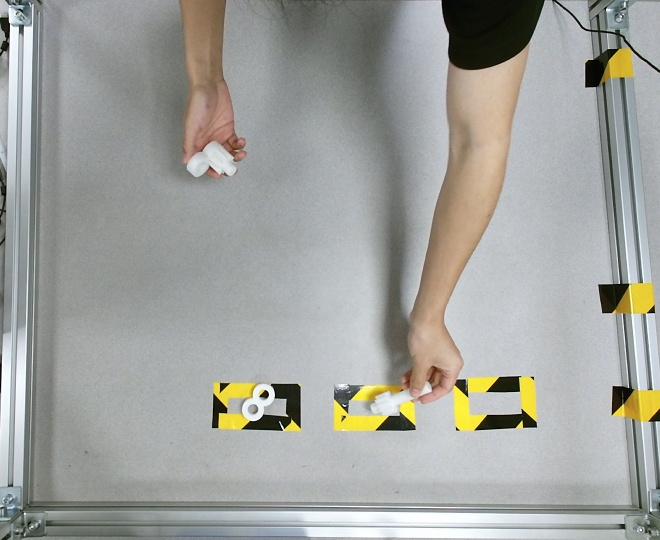stage_2: (186, 141, 237, 177)
